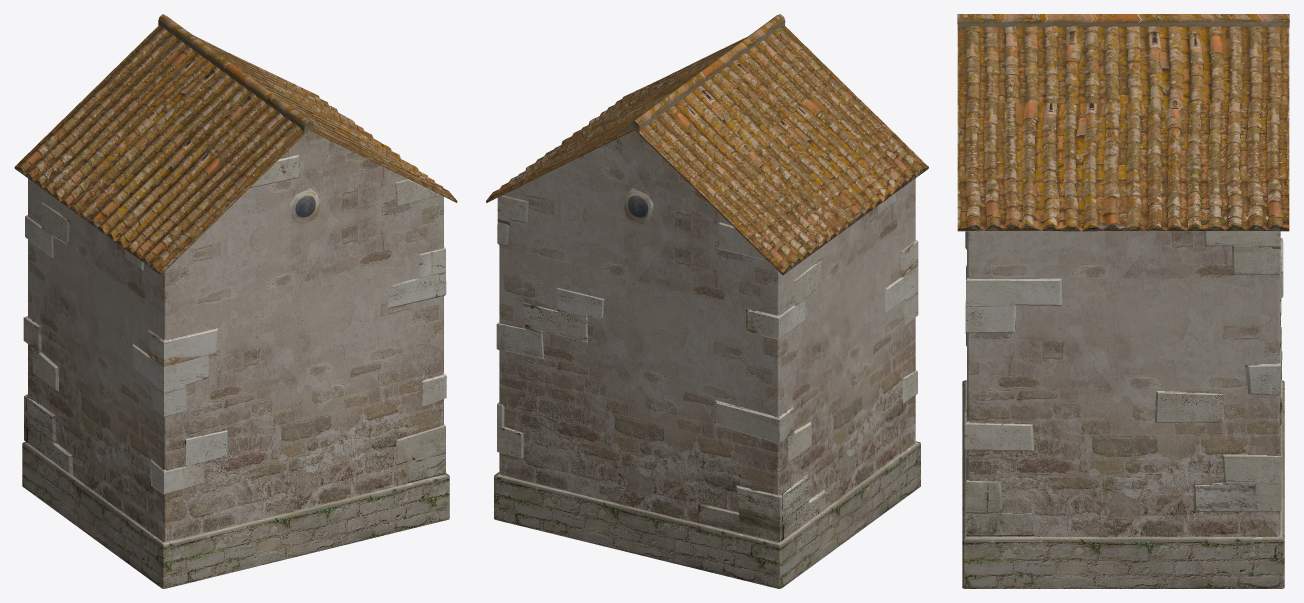
The model's file is Basic10.fbx.
3 renders of one model, left to right at view 1: azimuth 30°, elevation 25°; view 2: azimuth 150°, elevation 25°; view 3: azimuth 270°, elevation 25°, orthographic. The views are drawn at different scales.
Parts seen in each view (by area): view 1: LV_Campagna_City_CommonBuilding07_SM_CNH; view 2: LV_Campagna_City_CommonBuilding07_SM_CNH; view 3: LV_Campagna_City_CommonBuilding07_SM_CNH.
Part boxes in pixels (x1,y1,x2,y2): LV_Campagna_City_CommonBuilding07_SM_CNH: [14, 14, 457, 588]; LV_Campagna_City_CommonBuilding07_SM_CNH: [486, 14, 928, 588]; LV_Campagna_City_CommonBuilding07_SM_CNH: [957, 14, 1289, 588].
Size of the model in its own units: 1.7 by 2.37 by 1.44.
